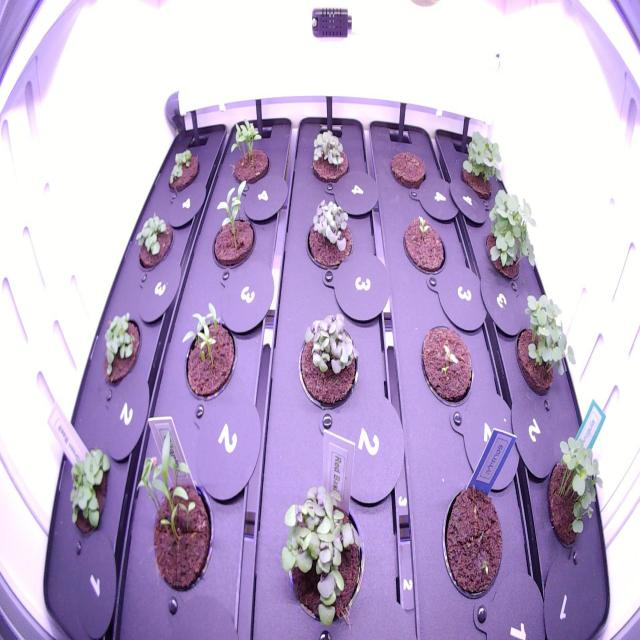germination: (135, 427, 219, 606), (540, 429, 606, 564), (173, 282, 241, 406), (511, 282, 579, 405), (414, 318, 482, 411), (482, 184, 538, 290), (60, 440, 115, 544), (205, 174, 262, 273), (219, 114, 278, 198), (94, 301, 144, 391), (456, 120, 506, 208), (398, 209, 450, 279), (131, 204, 175, 279), (163, 141, 206, 203)
pod: (438, 475, 508, 609), (385, 138, 431, 195)
